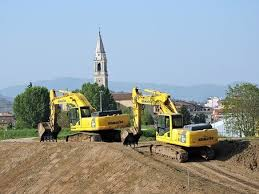excavator: (124, 86, 216, 164), (37, 89, 130, 144)
